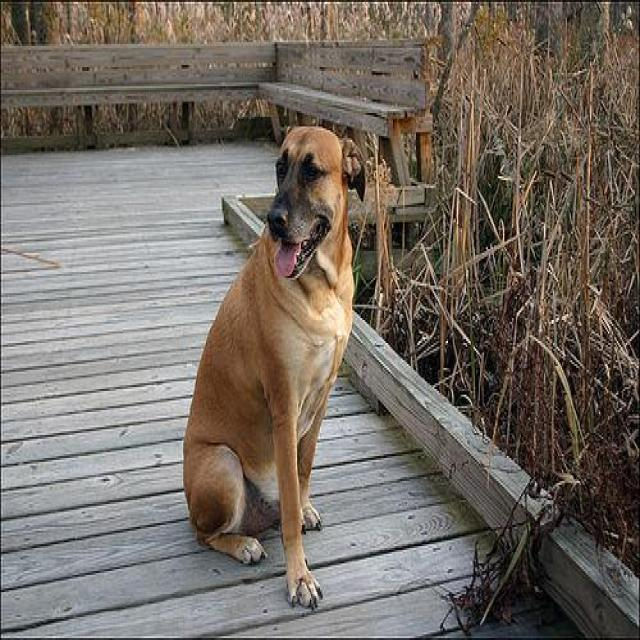rhodesian_ridgeback: (183, 122, 356, 604)
